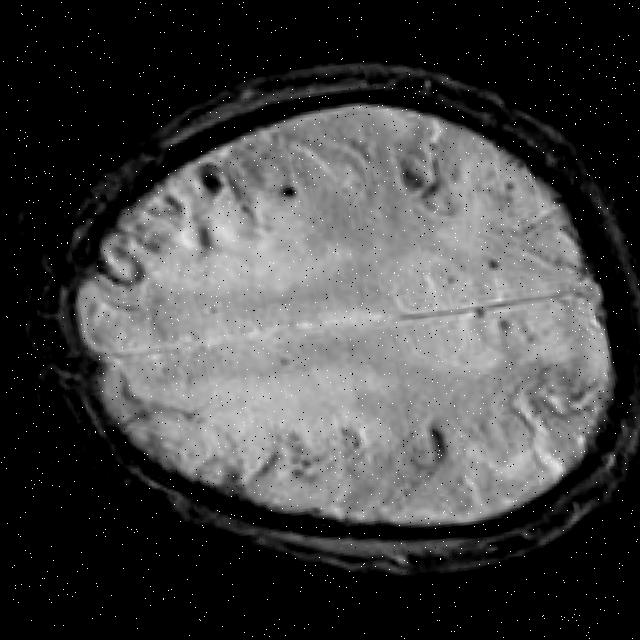NoTumor: (7, 16, 640, 625)
